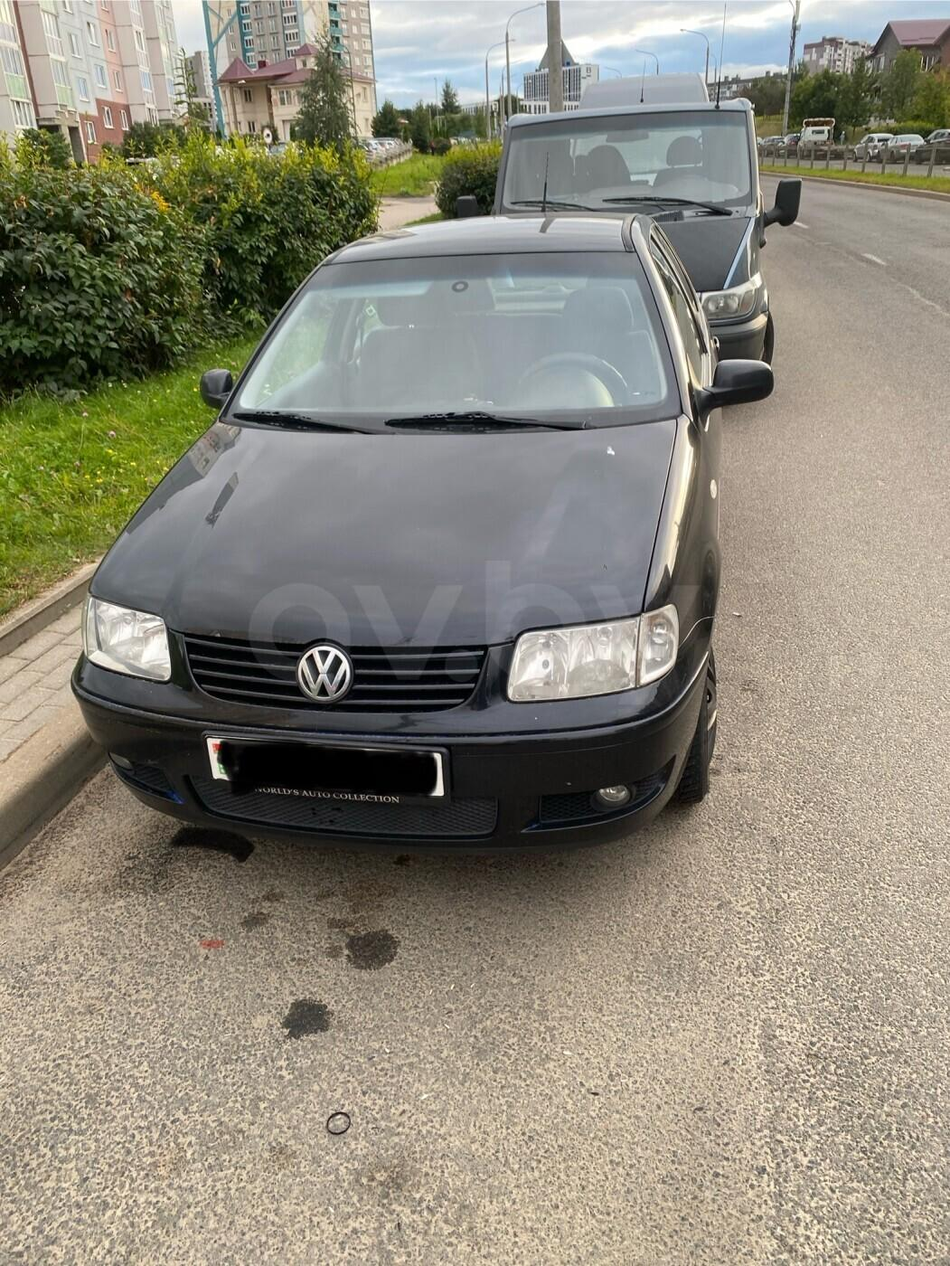Polo_2000-2002: (97, 208, 735, 868)
